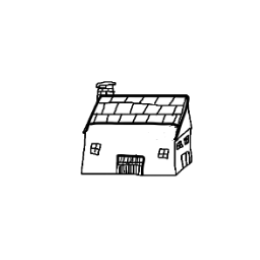chimney: (95, 74, 122, 106)
closed_window: (155, 146, 172, 162), (87, 141, 103, 157), (173, 139, 185, 151), (182, 134, 192, 146)
door: (113, 148, 148, 180), (179, 148, 193, 172)
roof: (76, 90, 200, 129)
small_house: (3, 5, 260, 260)
wall: (80, 118, 179, 182)
